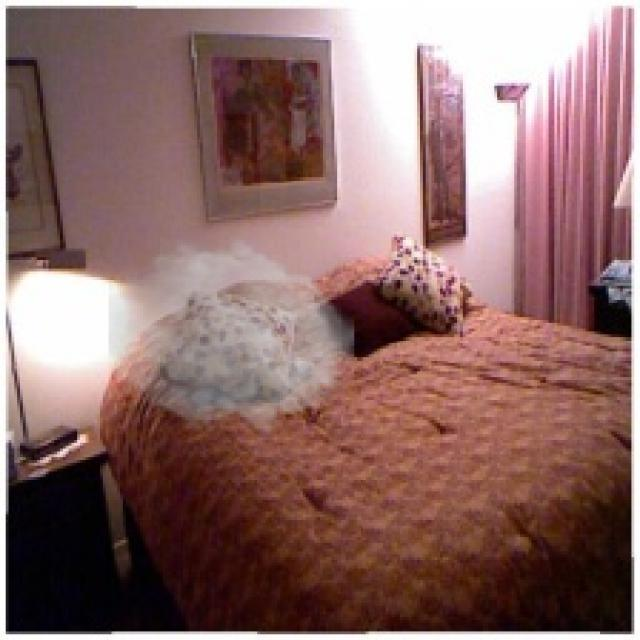Smoke: (108, 232, 354, 437)
